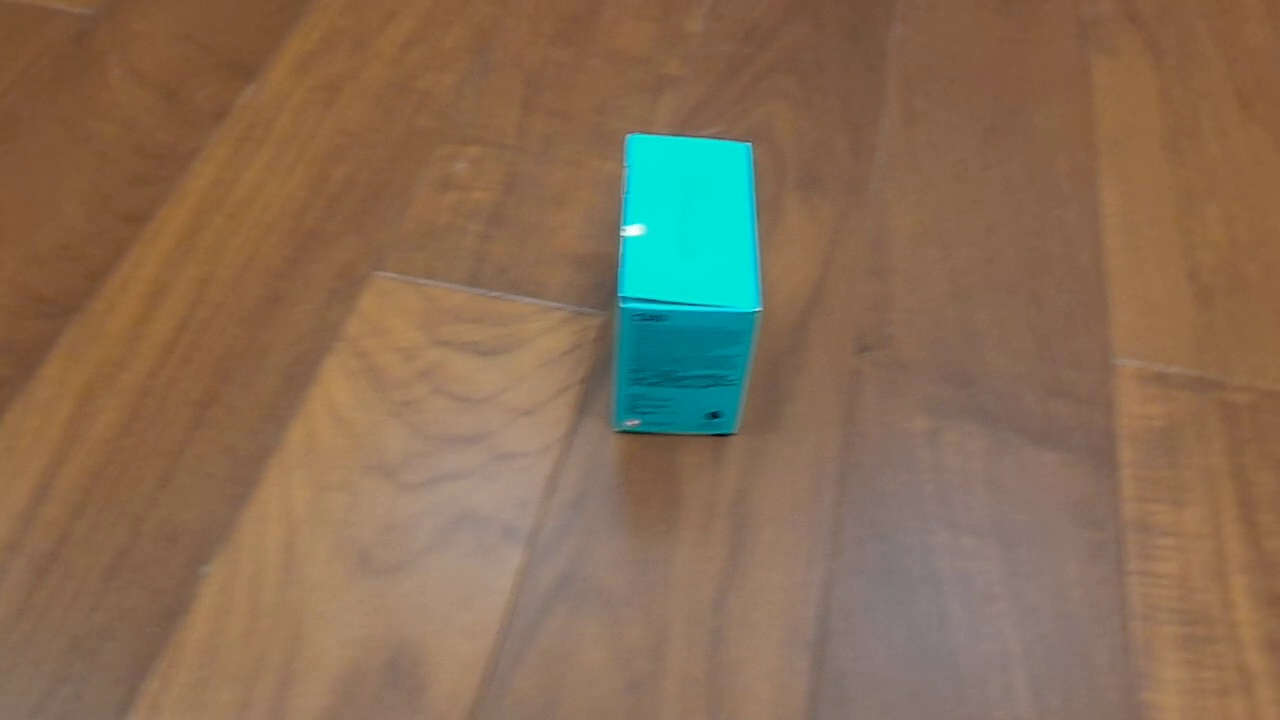webcam: (606, 130, 765, 438)
